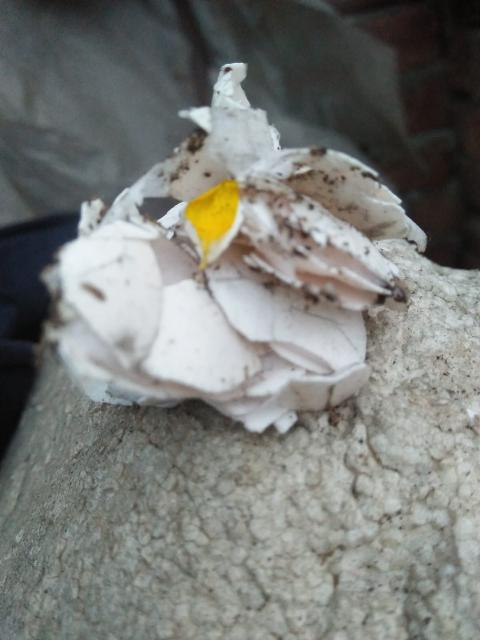Roto: (40, 61, 428, 436)
